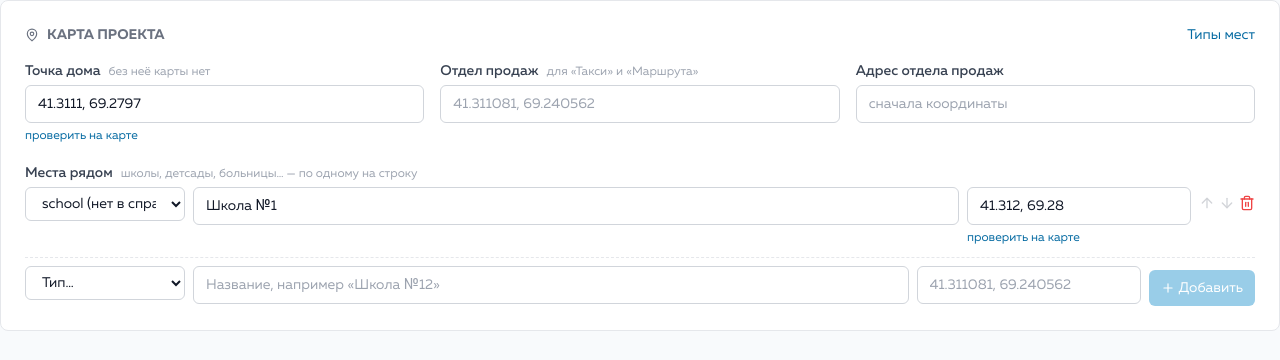
Test: ProjectMapSection — данные (ru) › точка дома: разобранные координаты уходят в форму, кривые — нет, с подсказкой
Replace the text in the field named "Точка дома" with "41.5, 69.5" at [225, 104], box [25,85,424,123]
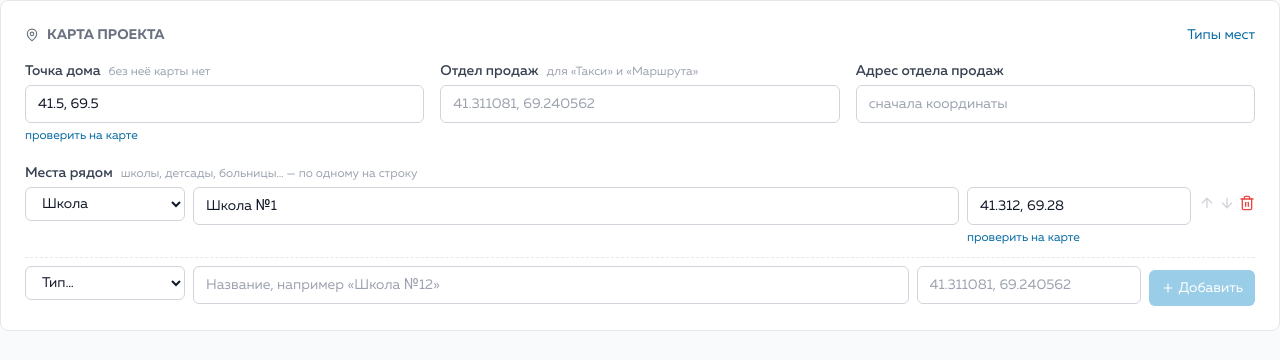
Replace the text in the field named "Точка дома" with "41,5, 69,5" at [225, 104], box [25,85,424,123]
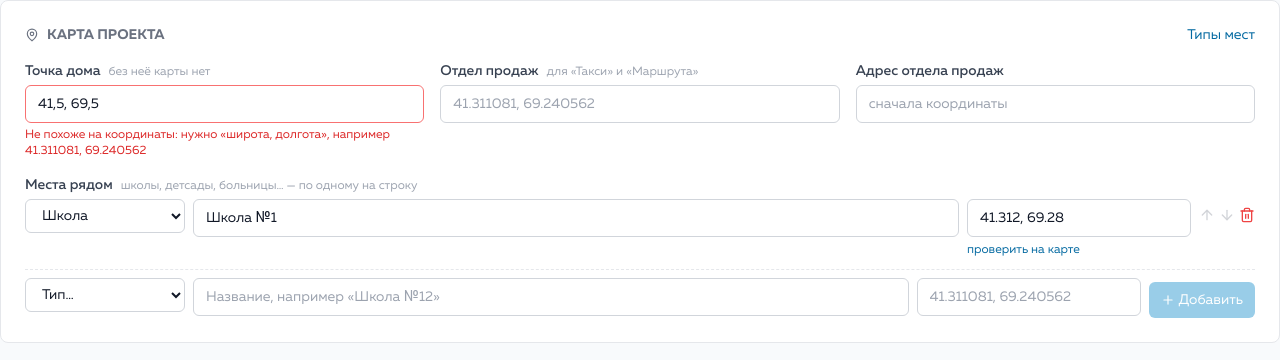
Result: the text "Не похоже на координаты" is shown at [25,129,390,157]
